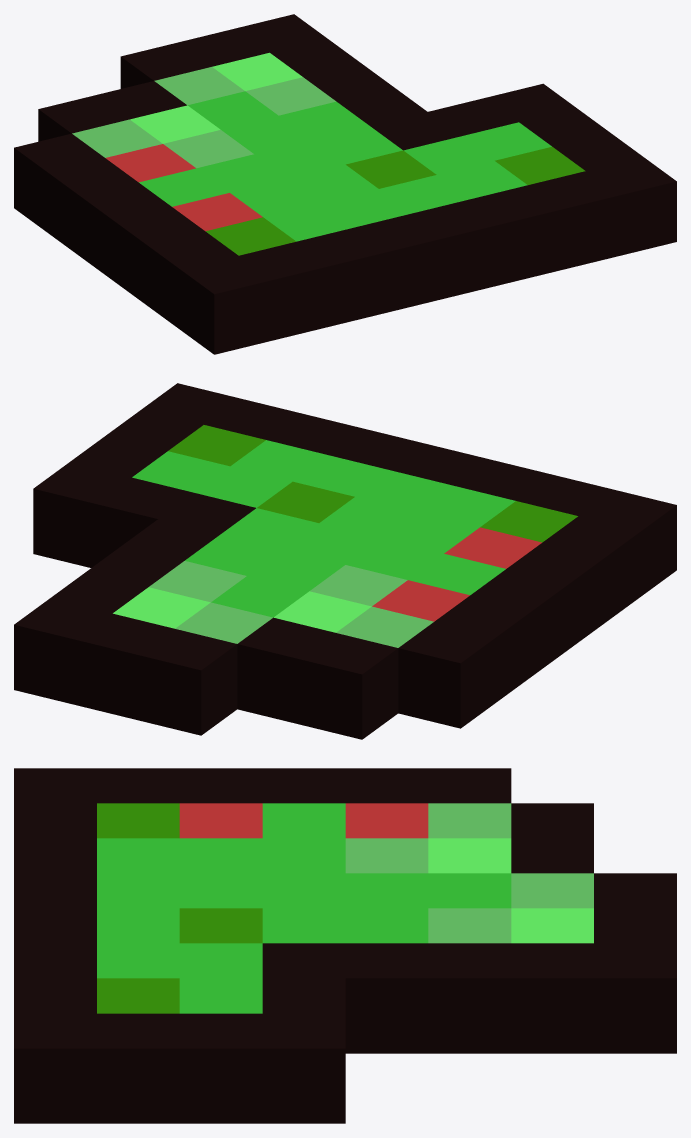
File: green-keycard.glb
3 renders of one model, top to bottom at view 1: azimuth 30°, elevation 25°; view 2: azimuth 150°, elevation 25°; view 3: azimuth 270°, elevation 25°, orthographic. The views are drawn at different scales.
Visible parts, largest first — view 1: green-keycard; view 2: green-keycard; view 3: green-keycard.
Boxes of the visible parts, bbox=[...] form: green-keycard: bbox=[14, 14, 676, 354]; green-keycard: bbox=[14, 383, 676, 739]; green-keycard: bbox=[14, 768, 676, 1123].
Size of the model in its own units: 0.8 by 0.1 by 0.8.
Materials: 1 (1 with a texture image).
